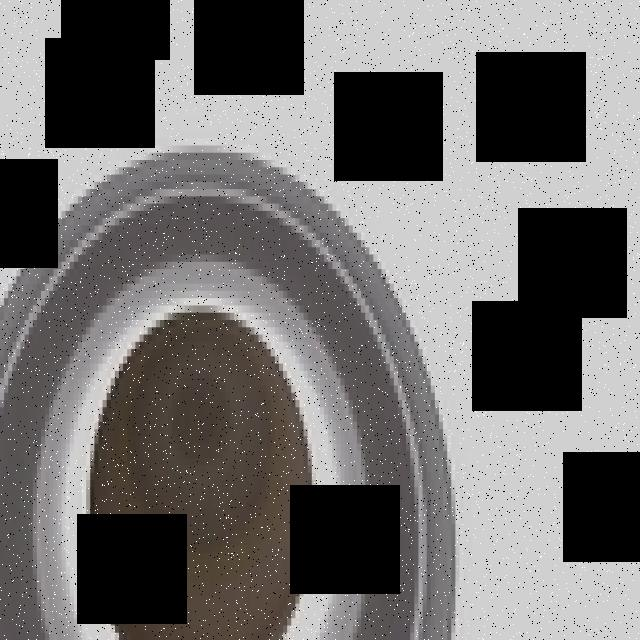Saturn: (0, 153, 460, 640)
